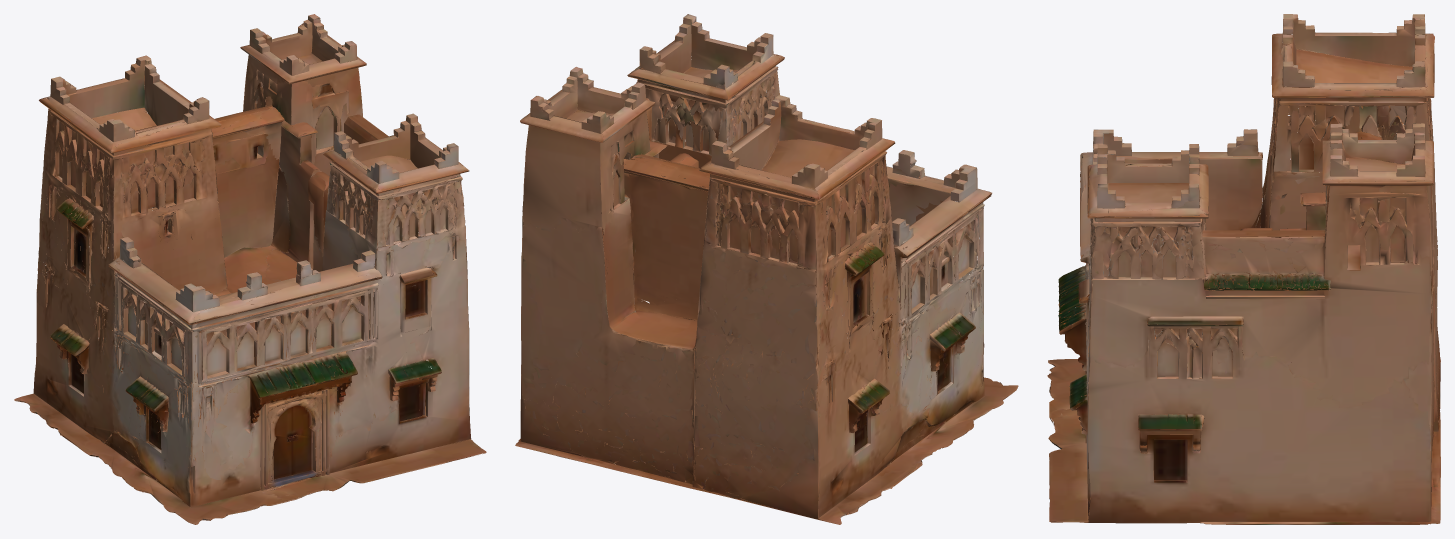
File: najran_kasbah.glb
3 renders of one model, left to right at view 1: azimuth 30°, elevation 25°; view 2: azimuth 150°, elevation 25°; view 3: azimuth 270°, elevation 25°, orthographic. The views are drawn at different scales.
Parts seen in each view (by area): view 1: najran_kasbah; view 2: najran_kasbah; view 3: najran_kasbah.
Boxes of the visible parts, box(x1,y1,x2,y2) form: najran_kasbah: box(14, 14, 486, 524); najran_kasbah: box(515, 14, 1018, 524); najran_kasbah: box(1047, 14, 1440, 524).
Size of the model in its own units: 7.17 by 7.01 by 6.92.
Materials: 1 (1 with a texture image).
